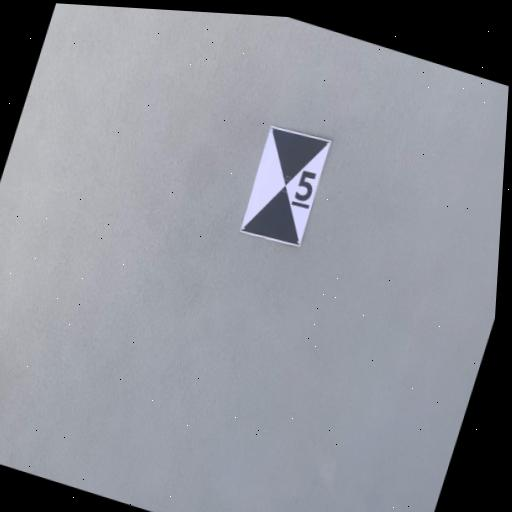target5: (240, 126, 332, 247)
